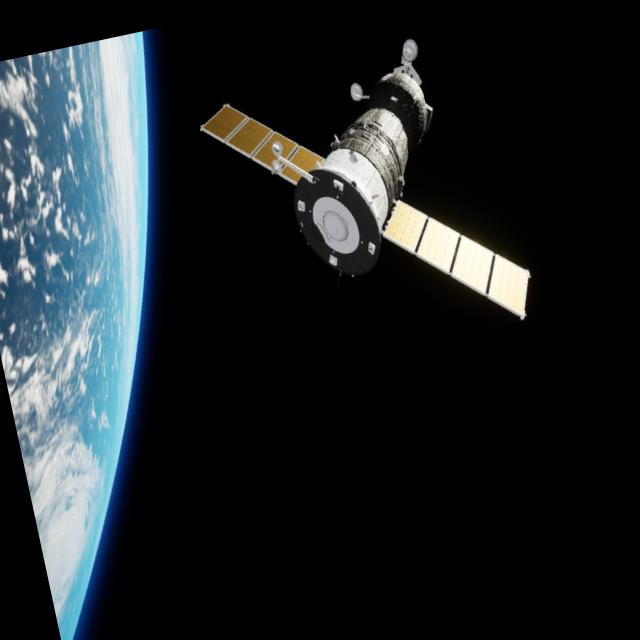Satellites revolving around earth: (187, 21, 541, 380)
